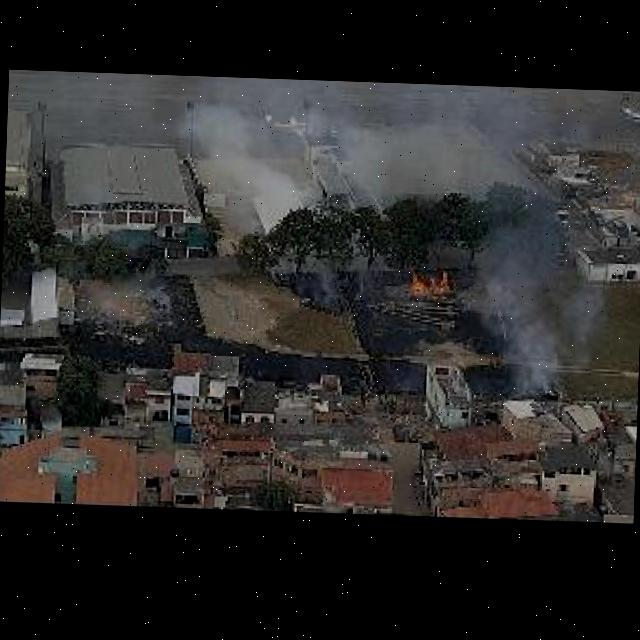fire: (401, 261, 456, 295)
